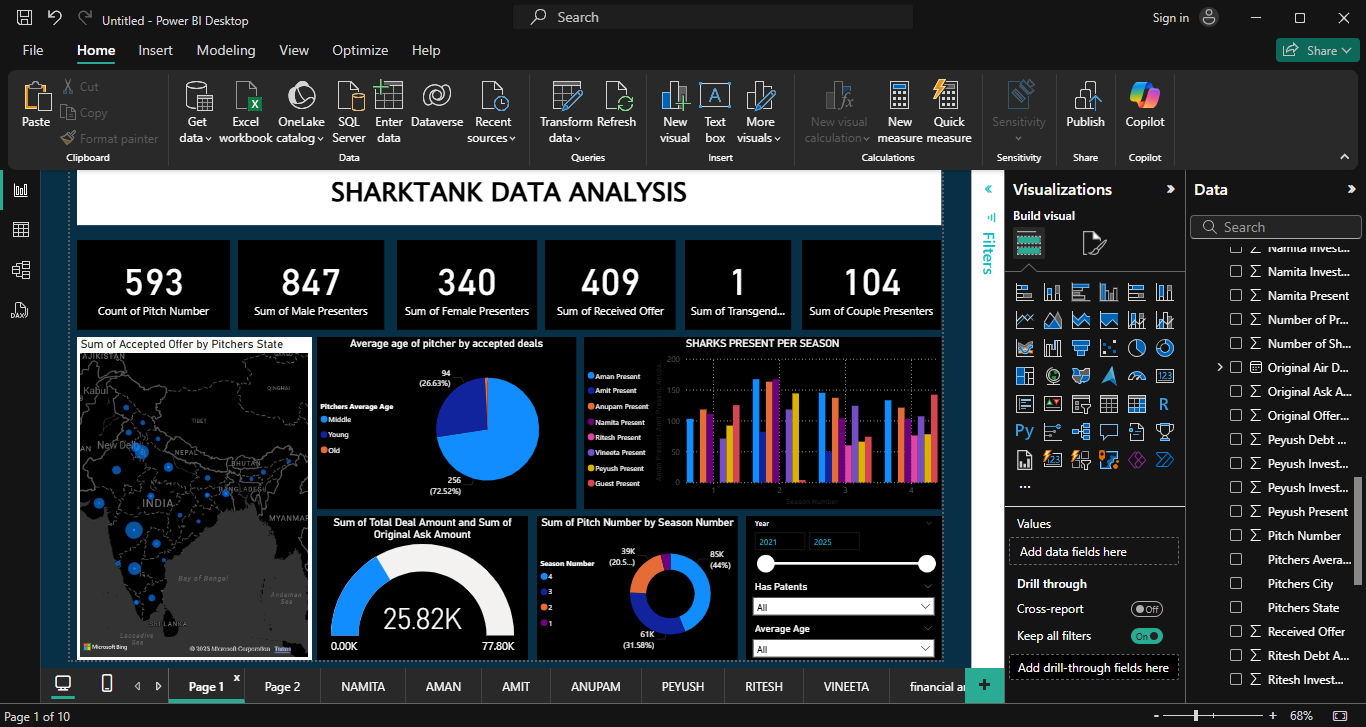

This screenshot's page, from the dashboard's own definition file:
{"tool":"powerbi","page":{"name":"Page 1","canvas":[1280,720],"ordinal":0},"visuals":[{"type":"textbox","box":[10.1,0,1269.9,80.6],"z":0},{"type":"card","fields":{"Values":["Shark_Tank_India_Cleaned.Pitch Number"]},"box":[10.3,102.9,224.8,132.2],"z":1000},{"type":"card","fields":{"Values":["Shark_Tank_India_Cleaned.Male Presenters"]},"box":[246.9,102.9,214.5,132.2],"z":2000},{"type":"card","fields":{"Values":["Shark_Tank_India_Cleaned.Female Presenters"]},"box":[480.5,102.9,205.7,132.2],"z":3000},{"type":"card","fields":{"Values":["Shark_Tank_India_Cleaned.Received Offer"]},"box":[698,102.9,192.5,132.2],"z":4000},{"type":"map","fields":{"Category":["Shark_Tank_India_Cleaned.Pitchers State"],"Size":["Shark_Tank_India_Cleaned.Accepted Offer"]},"box":[10.3,245.4,343.8,474.6],"z":5000},{"type":"pieChart","title":"Average age of pitcher by accepted deals","fields":{"Y":["Shark_Tank_India_Cleaned.Accepted Offer"],"Category":["Shark_Tank_India_Cleaned.Pitchers Average Age"]},"box":[362.9,245.4,380.6,252.7],"z":6000},{"type":"card","fields":{"Values":["Shark_Tank_India_Cleaned.Transgender Presenters"]},"box":[903.7,102.9,155.8,132.2],"z":7000},{"type":"gauge","fields":{"Y":["Shark_Tank_India_Cleaned.Total Deal Amount"],"MaxValue":["Shark_Tank_India_Cleaned.Original Ask Amount"]},"box":[362.9,508.4,310,211.6],"z":8000},{"type":"slicer","fields":{"Values":["Shark_Tank_India_Cleaned.Year"]},"box":[993.3,508.4,286.5,91.1],"z":9000},{"type":"donutChart","fields":{"Y":["Shark_Tank_India_Cleaned.Pitch Number"],"Category":["Shark_Tank_India_Cleaned.Season Number"]},"box":[686.2,508.4,295.3,211.6],"z":10000},{"type":"slicer","fields":{"Values":["Shark_Tank_India_Cleaned.Has Patents"]},"box":[993.3,599.5,286.5,61.7],"z":11000},{"type":"slicer","fields":{"Values":["Shark_Tank_India_Cleaned.Pitchers Average Age"]},"box":[993.3,661.2,286.5,58.8],"z":12000},{"type":"card","fields":{"Values":["Shark_Tank_India_Cleaned.Couple Presenters"]},"box":[1075.6,102.9,204.2,132.2],"z":13000},{"type":"clusteredColumnChart","title":"SHARKS PRESENT PER SEASON","fields":{"Y":["Shark_Tank_India_Cleaned.Aman Present","Shark_Tank_India_Cleaned.Amit Present","Shark_Tank_India_Cleaned.Anupam Present","Shark_Tank_India_Cleaned.Namita Present","Shark_Tank_India_Cleaned.Ritesh Present","Shark_Tank_India_Cleaned.Vineeta Present","Shark_Tank_India_Cleaned.Peyush Present","Shark_Tank_India_Cleaned.Guest Present"],"Category":["Shark_Tank_India_Cleaned.Season Number"]},"box":[755.3,245.4,524.6,252.7],"z":14000}]}

Visuals, with their boxes on the page's 1280x720 design canvas (x1, y1, x2, y2). These are canvas units, not pixel positions in the 1366x727 screenshot, which may show the page scaled, cropped or inside an application window:
textbox: 10:0:1280:81
card - Shark_Tank_India_Cleaned.Pitch Number: 10:103:235:235
card - Shark_Tank_India_Cleaned.Male Presenters: 247:103:461:235
card - Shark_Tank_India_Cleaned.Female Presenters: 480:103:686:235
card - Shark_Tank_India_Cleaned.Received Offer: 698:103:890:235
map - Shark_Tank_India_Cleaned.Pitchers State x Shark_Tank_India_Cleaned.Accepted Offer: 10:245:354:720
"Average age of pitcher by accepted deals" pieChart: 363:245:744:498
card - Shark_Tank_India_Cleaned.Transgender Presenters: 904:103:1060:235
gauge - Shark_Tank_India_Cleaned.Total Deal Amount x Shark_Tank_India_Cleaned.Original Ask Amount: 363:508:673:720
slicer - Shark_Tank_India_Cleaned.Year: 993:508:1280:600
donutChart - Shark_Tank_India_Cleaned.Pitch Number x Shark_Tank_India_Cleaned.Season Number: 686:508:982:720
slicer - Shark_Tank_India_Cleaned.Has Patents: 993:600:1280:661
slicer - Shark_Tank_India_Cleaned.Pitchers Average Age: 993:661:1280:720
card - Shark_Tank_India_Cleaned.Couple Presenters: 1076:103:1280:235
"SHARKS PRESENT PER SEASON" clusteredColumnChart: 755:245:1280:498
